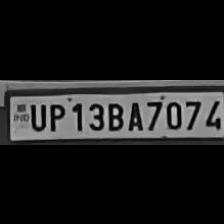0: (162, 97, 182, 129)
1: (65, 99, 84, 131)
3: (84, 97, 104, 130)
4: (200, 96, 222, 128)
7: (142, 96, 162, 130), (181, 96, 199, 130)
A: (125, 98, 143, 130)
B: (104, 98, 124, 130)
P: (46, 99, 66, 131)
U: (26, 100, 46, 130)
